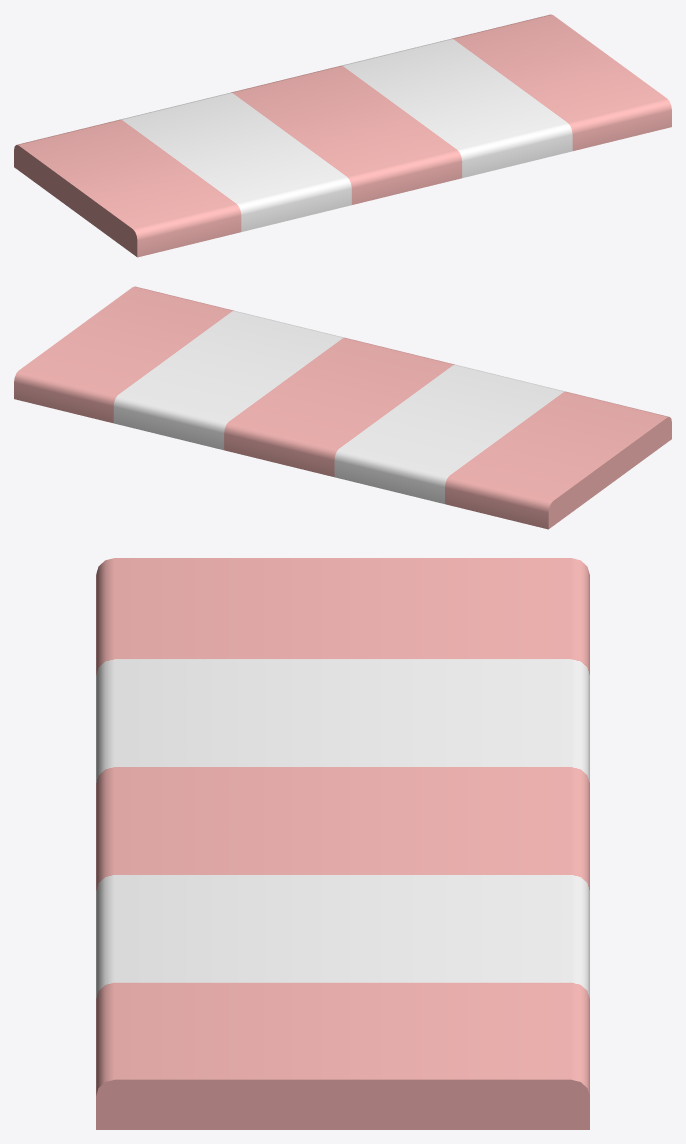
The model's file is RoadStraight2_red.fbx.
3 views of the same model, one above another, from view 1: azimuth 30°, elevation 25°; view 2: azimuth 150°, elevation 25°; view 3: azimuth 270°, elevation 25° (orthographic). The views are drawn at different scales.
Parts seen in each view (by area): view 1: RoadStraight2_red; view 2: RoadStraight2_red; view 3: RoadStraight2_red.
Boxes of the visible parts, x1,y1,x2,y2 form: RoadStraight2_red: (14,14,671,257); RoadStraight2_red: (14,286,671,529); RoadStraight2_red: (96,558,589,1129).
Size of the model in its own units: 750 by 33.61 by 300.
1 material, 1 textured.
